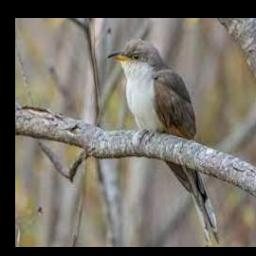Cuckoo: (106, 38, 222, 244)
